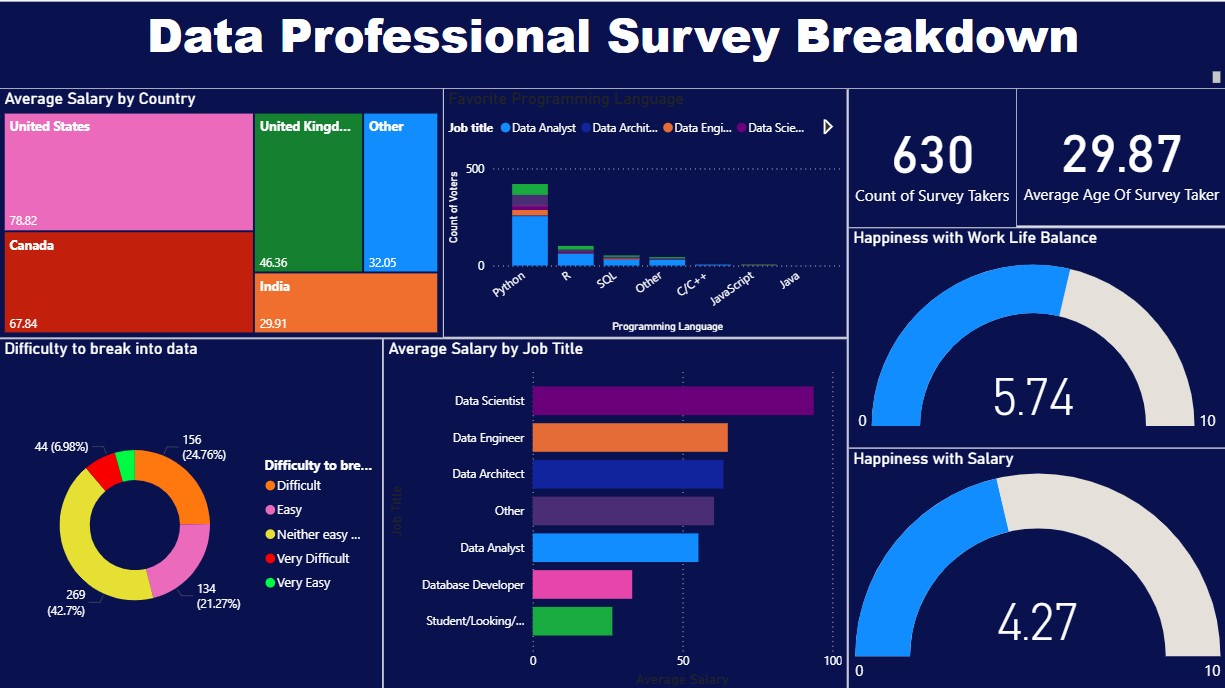

Layout of this report page (visuals, bound fields, positions):
{"tool":"powerbi","page":{"name":"Page 1","canvas":[1280,720],"ordinal":0},"visuals":[{"type":"textbox","title":"Data Professional Survey Breakdown","box":[0,0,1278.3,91.7],"z":0},{"type":"card","fields":{"Values":["Count(Data Professional Survey.Unique ID)"]},"box":[884.3,91.4,175.7,145.7],"z":1000},{"type":"card","fields":{"Values":["Avg(Data Professional Survey.Q10 - Current Age)"]},"box":[1060,91.4,220,144.3],"z":2000},{"type":"barChart","title":"Average Salary by Job Title ","fields":{"Category":["Data Professional Survey.Q1 - Which Title Best Fits your Current Role?"],"Y":["Avg(Data Professional Survey.Average Current Salary)"],"Series":["Data Professional Survey.Q1 - Which Title Best Fits your Current Role?"]},"box":[400,351.4,484.3,368.6],"z":3000},{"type":"columnChart","title":"Favorite Programming Language","fields":{"Category":["Data Professional Survey.Q5 - Favorite Programming Language"],"Y":["CountNonNull(Data Professional Survey.Unique ID)"],"Series":["Data Professional Survey.Q1 - Which Title Best Fits your Current Role?"]},"box":[462.9,91.4,421.4,260],"z":4000},{"type":"treemap","fields":{"Group":["Data Professional Survey.Q11 - Which Country do you live in?"],"Values":["Avg(Data Professional Survey.Average Current Salary)"]},"box":[0,90.7,463.1,260.7],"z":5000},{"type":"gauge","title":"Happiness with Work Life Balance","fields":{"Y":["Avg(Data Professional Survey.Q6 - How Happy are you in your Current Position with the following? (Work/Life Balance))"],"MinValue":["Min(Data Professional Survey.Q6 - How Happy are you in your Current Position with the following? (Work/Life Balance))"],"MaxValue":["Max(Data Professional Survey.Q6 - How Happy are you in your Current Position with the following? (Work/Life Balance))1"]},"box":[884.3,235.7,394.3,230],"z":6000},{"type":"gauge","title":"Happiness with Salary","fields":{"Y":["Avg(Data Professional Survey.Q6 - How Happy are you in your Current Position with the following? (Salary))"],"MinValue":["Min(Data Professional Survey.Q6 - How Happy are you in your Current Position with the following? (Salary))"],"MaxValue":["Max(Data Professional Survey.Q6 - How Happy are you in your Current Position with the following? (Salary))"]},"box":[884.3,465.7,395.7,254.3],"z":7000},{"type":"donutChart","title":"Difficulty to break into data","fields":{"Y":["CountNonNull(Data Professional Survey.Q7 - How difficult was it for you to break into Data?)"],"Series":["Data Professional Survey.Q7 - How difficult was it for you to break into Data?"]},"box":[0,351.7,400,368.3],"z":8000}]}

Visuals, with their boxes in screenshot pixels (x1, y1, x2, y2), scaled from the page's 1280x720 canvas onto the 1225x688 screenshot:
"Data Professional Survey Breakdown" textbox: 0/0/1223/88
card - Count(Data Professional Survey.Unique ID): 846/87/1014/227
card - Avg(Data Professional Survey.Q10 - Current Age): 1014/87/1224/225
"Average Salary by Job Title " barChart: 383/336/846/687
"Favorite Programming Language" columnChart: 443/87/846/336
treemap - Data Professional Survey.Q11 - Which Country do you live in? x Avg(Data Professional Survey.Average Current Salary): 0/87/443/336
"Happiness with Work Life Balance" gauge: 846/225/1224/445
"Happiness with Salary" gauge: 846/445/1224/687
"Difficulty to break into data" donutChart: 0/336/383/687
